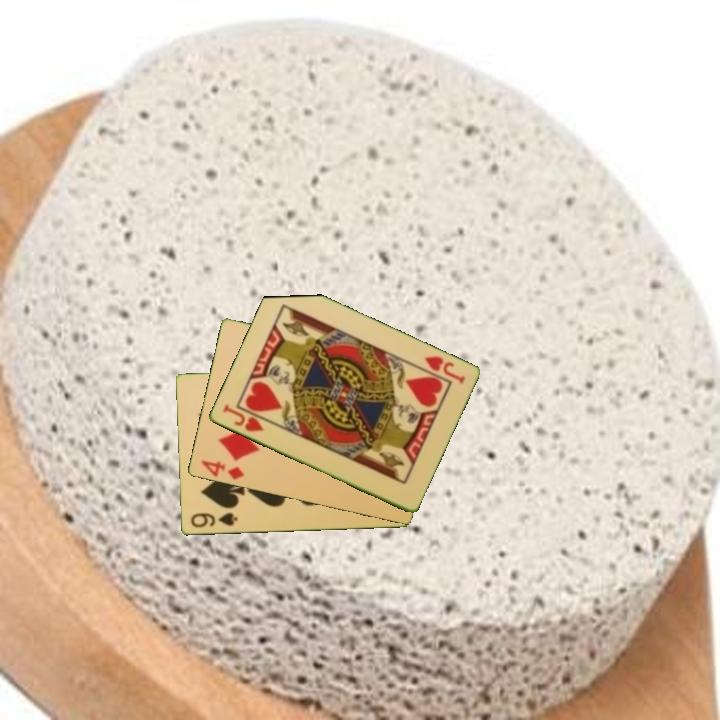4d: (197, 457, 247, 483)
9s: (187, 509, 240, 531)
Jh: (420, 353, 468, 387), (219, 401, 266, 435)
